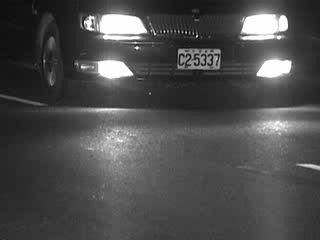plate: (175, 46, 223, 71)
